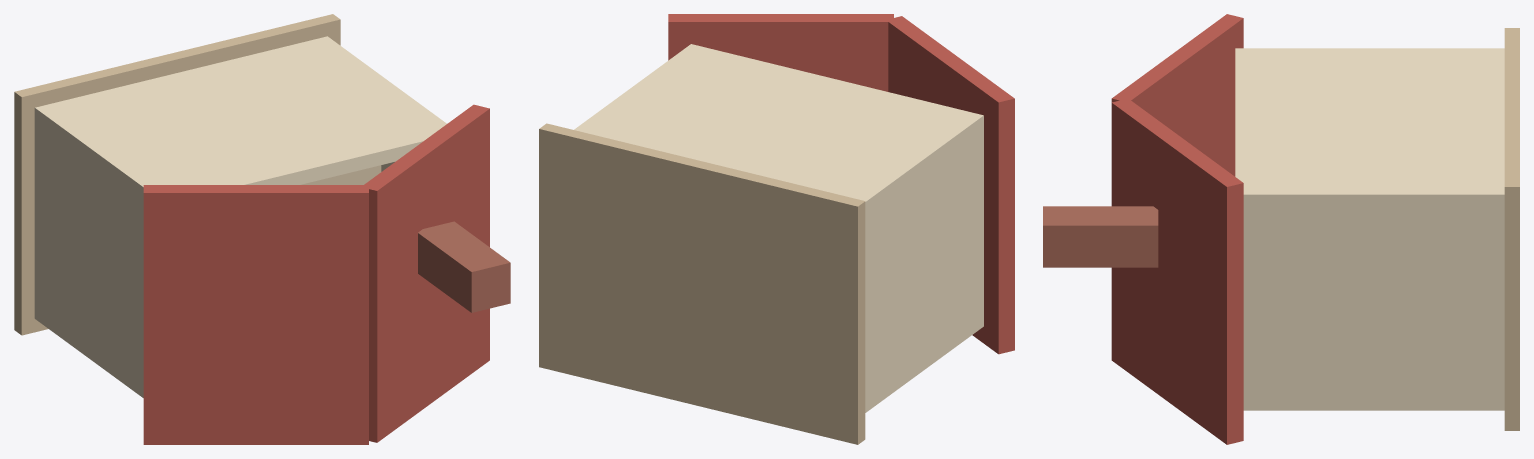
Rendered from .simple_dollhouse.step.glb.
The picture shows the model from 3 angles, left to right: view 1: azimuth 30°, elevation 25°; view 2: azimuth 150°, elevation 25°; view 3: azimuth 270°, elevation 25°; orthographic projection. The views are drawn at different scales.
Visible parts, largest first — view 1: o1.11.1, o1.2.1, o1.12.1, o1.3.1, o1.1.1, o1.13.1, o1.4.1, o1.5.1; view 2: o1.1.1, o1.2.1, o1.3.1, o1.11.1, o1.12.1, o1.4.1; view 3: o1.4.1, o1.2.1, o1.12.1, o1.11.1, o1.13.1, o1.1.1.
Part boxes in pixels (x1,y1,x2,y2): o1.11.1: [143, 185, 368, 444]; o1.2.1: [34, 36, 445, 200]; o1.12.1: [361, 104, 489, 442]; o1.3.1: [34, 108, 143, 397]; o1.1.1: [14, 14, 340, 335]; o1.13.1: [418, 221, 510, 312]; o1.4.1: [315, 36, 446, 171]; o1.5.1: [301, 165, 381, 184]; o1.1.1: [539, 123, 865, 444]; o1.2.1: [578, 44, 983, 215]; o1.3.1: [855, 116, 983, 412]; o1.11.1: [886, 16, 1014, 354]; o1.12.1: [668, 14, 893, 91]; o1.4.1: [574, 72, 656, 132]; o1.4.1: [1243, 190, 1504, 410]; o1.2.1: [1235, 48, 1504, 208]; o1.12.1: [1111, 99, 1243, 444]; o1.11.1: [1111, 14, 1243, 176]; o1.13.1: [1043, 206, 1158, 267]; o1.1.1: [1504, 28, 1519, 430].
Bounding box in the file's own units: 0.1065 × 0.074 × 0.124.
